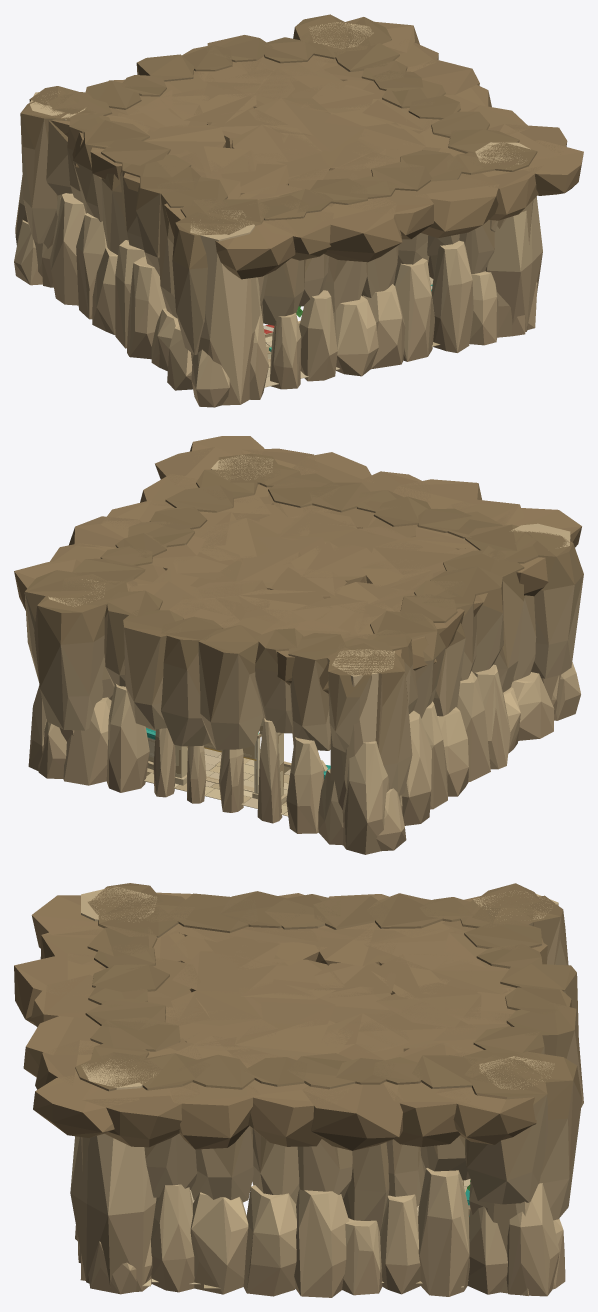
The model's file is ruins-hall.glb.
3 views of the same model, one above another, from view 1: azimuth 30°, elevation 25°; view 2: azimuth 150°, elevation 25°; view 3: azimuth 270°, elevation 25° (orthographic). The views are drawn at different scales.
Visible parts, largest first — view 1: Batched static valley; view 2: Batched static valley; view 3: Batched static valley.
Part boxes in pixels (<box>): Batched static valley: <box>14,14,583,407</box>; Batched static valley: <box>14,436,583,854</box>; Batched static valley: <box>14,883,583,1297</box>.
Size of the model in its own units: 53.14 by 21.6 by 54.5.
8 materials, 2 textured.
